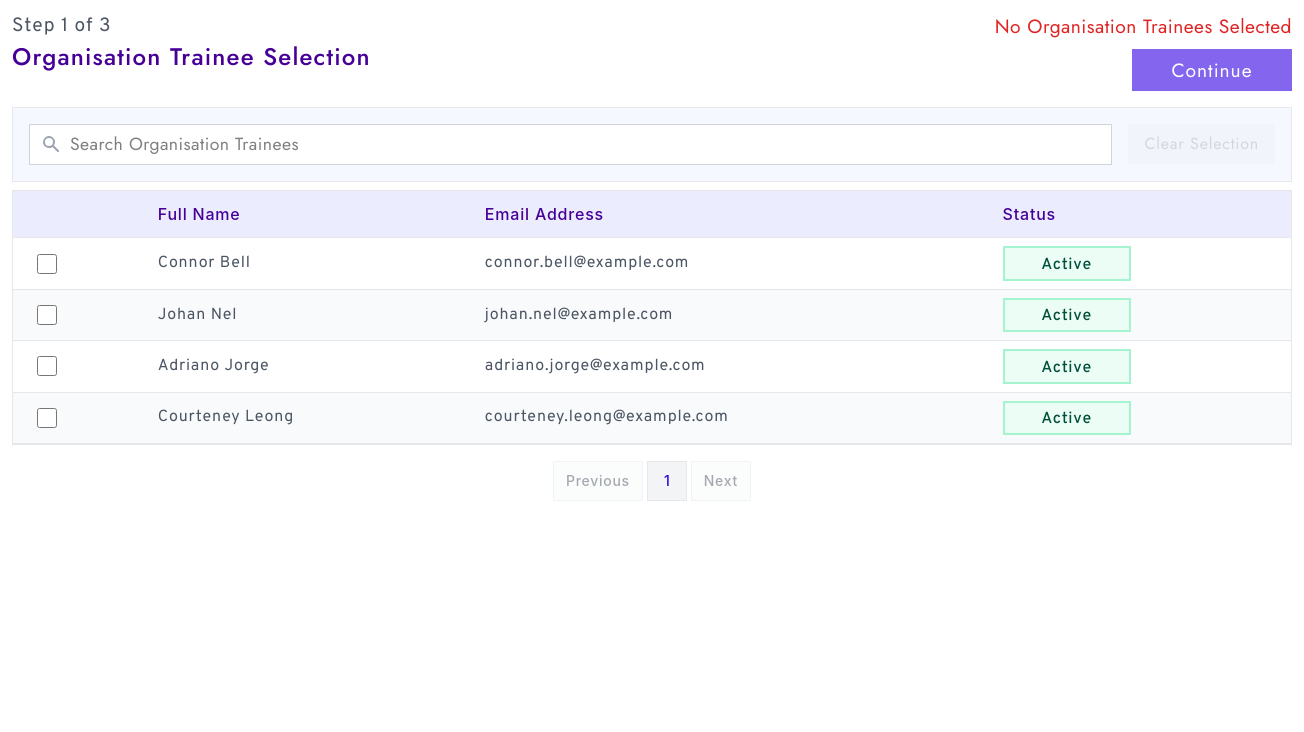
OrganisationTraineeSelectionPage › toggles a selected trainee off again
Click the checkbox next to "Connor Bell". click: (47, 264)
box: [37,254,57,274]
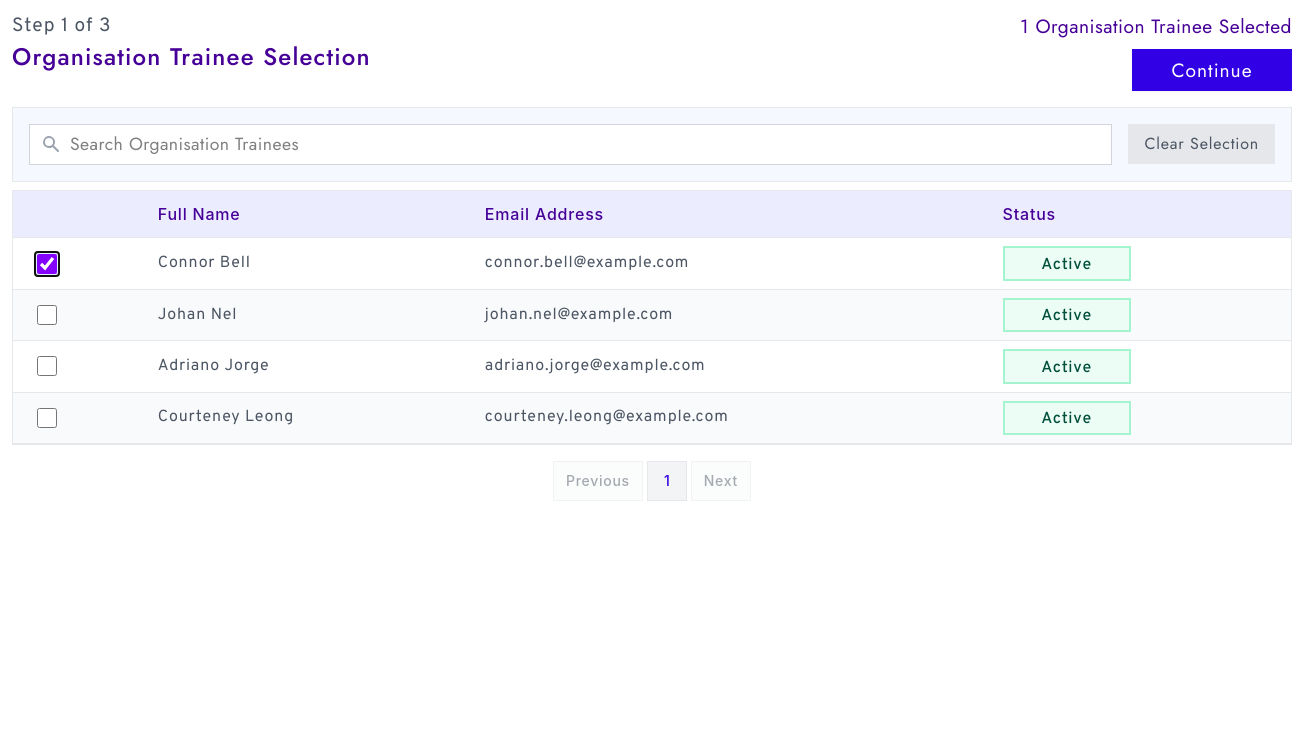
Expected: the checkbox next to "Connor Bell" is checked
Click the checkbox next to "Connor Bell". click: (47, 264)
box: [37,254,57,274]
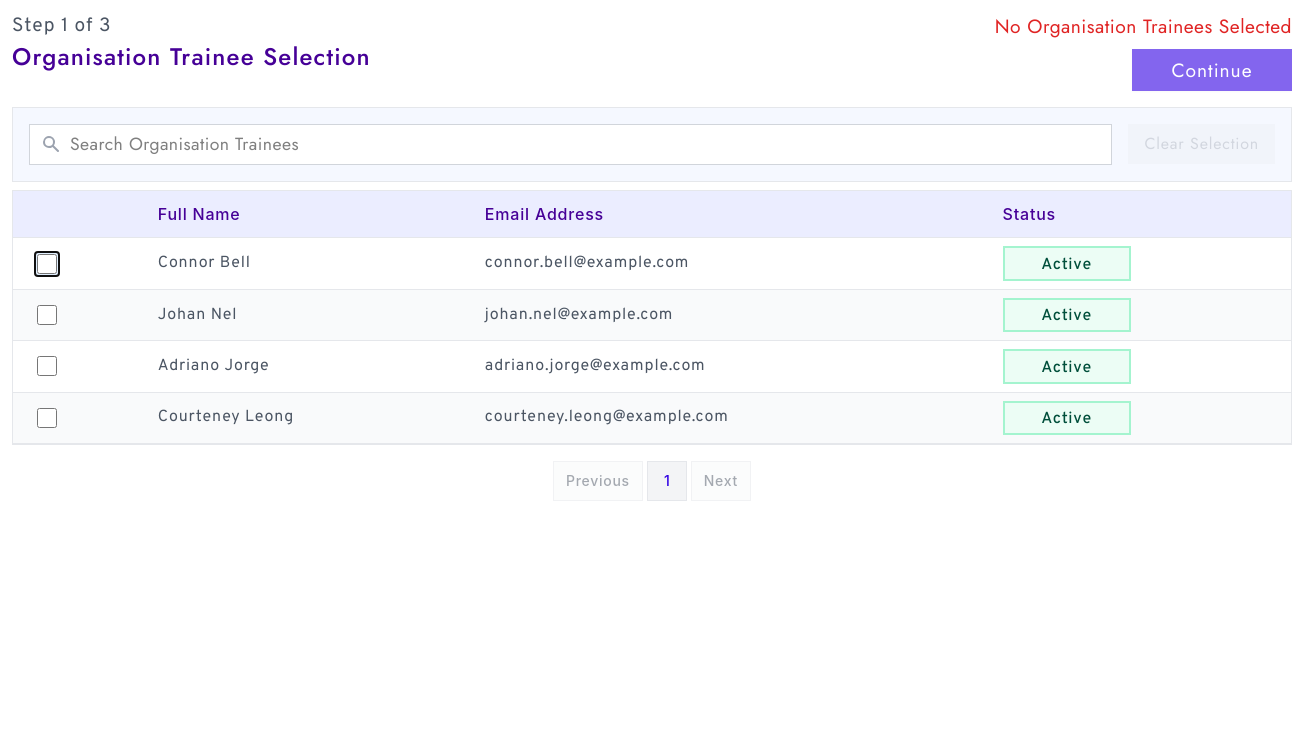
Expected: the checkbox next to "Connor Bell" is not checked, [37,254,57,274]
Expected: the text "No Organisation Trainees Selected" is shown, [995,12,1292,41]
Expected: the button "Continue" is disabled, [1132,49,1292,91]
